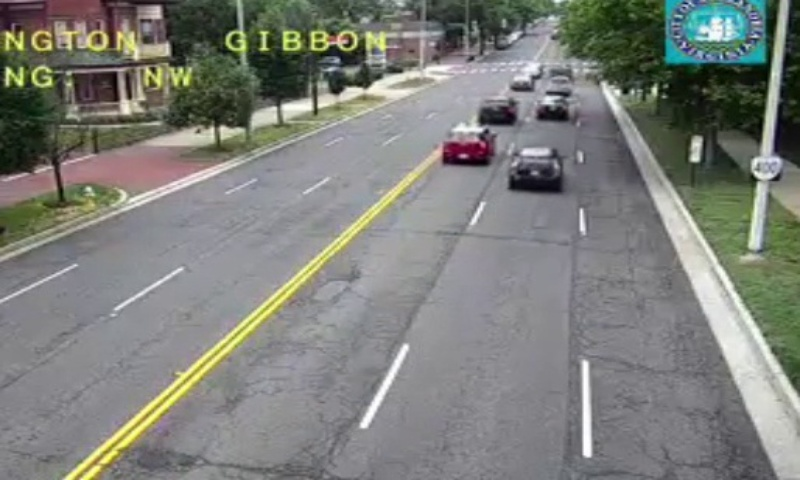car: (508, 148, 563, 189), (442, 127, 494, 163), (479, 98, 516, 123), (533, 96, 569, 120)
